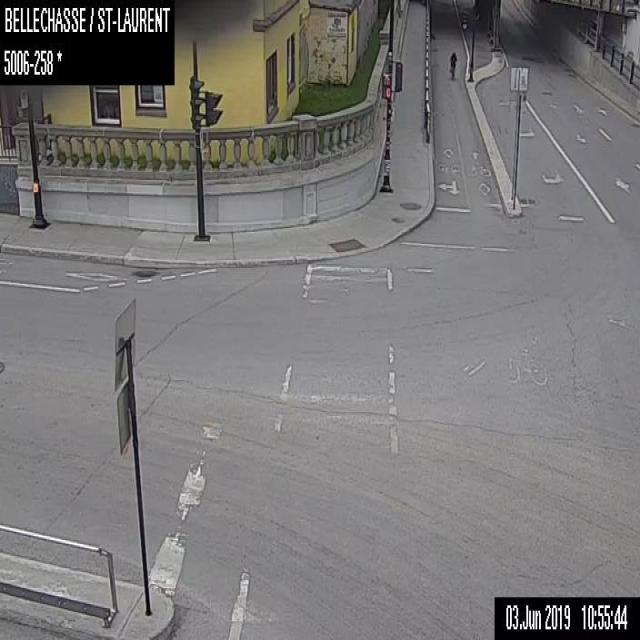cyclist: (448, 51, 457, 80)
